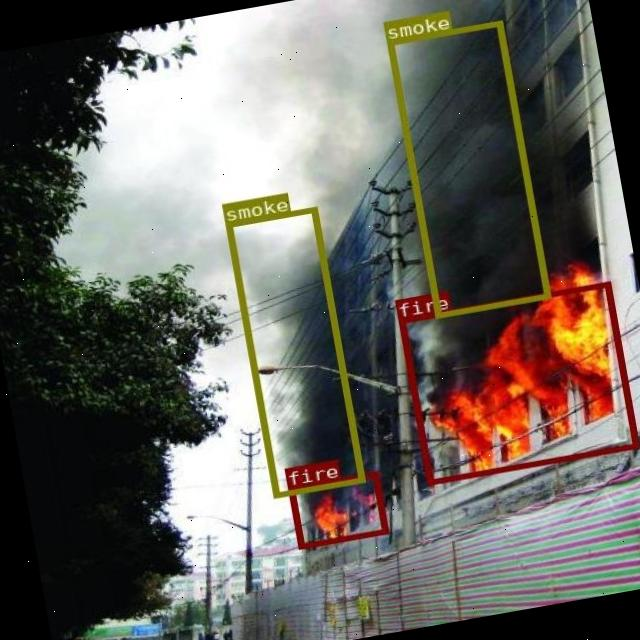fire: (397, 281, 638, 484), (286, 470, 388, 548)
smoke: (386, 20, 548, 317), (224, 206, 362, 497)
